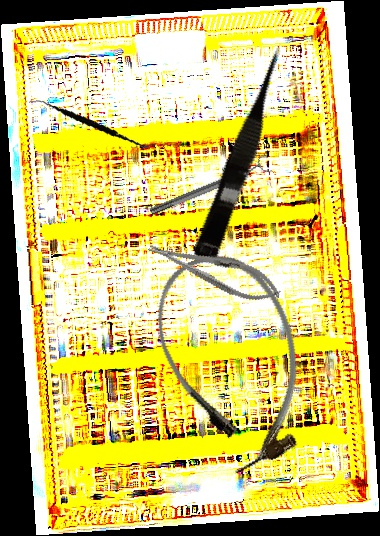Cannula: (136, 237, 331, 484)
Fixation Ring: (146, 153, 274, 221)
Micro Scissor: (190, 39, 298, 268)
Needle Holder: (143, 230, 286, 311)
Spatula Surgical: (28, 79, 157, 167)
